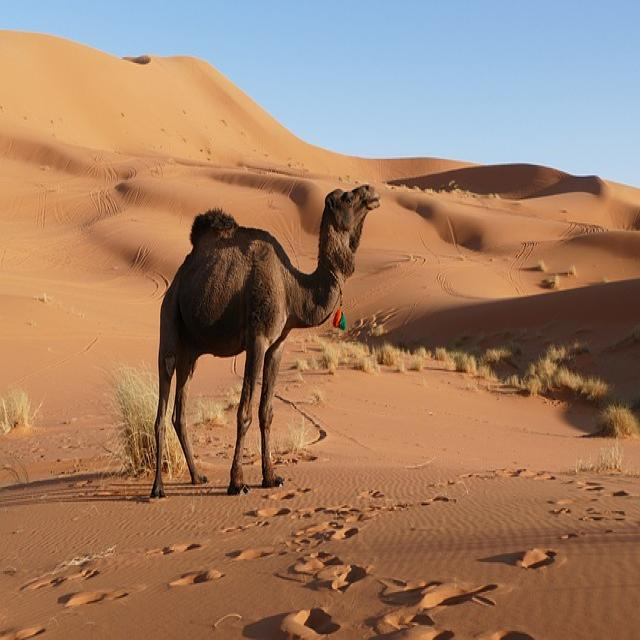Herbivorous: (151, 186, 381, 496)
